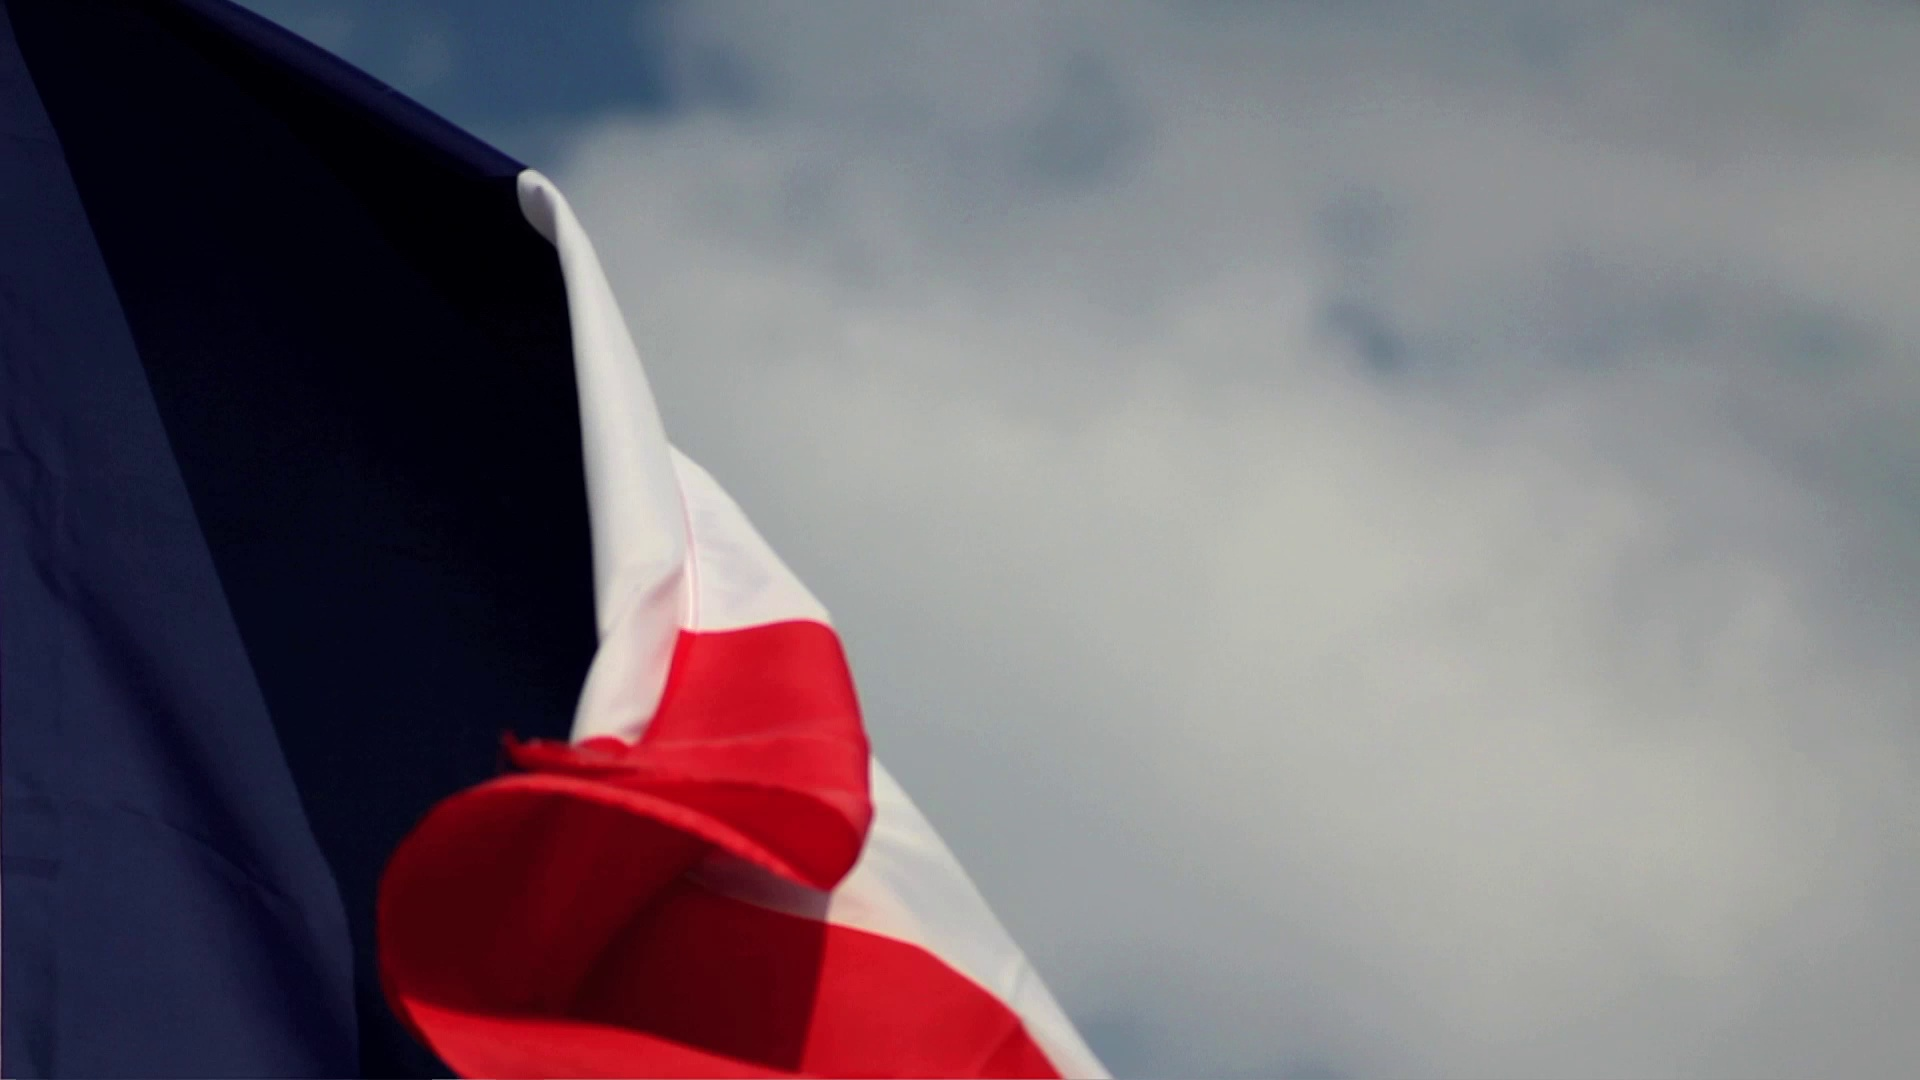French Flag: (1, 1, 1116, 1080)
